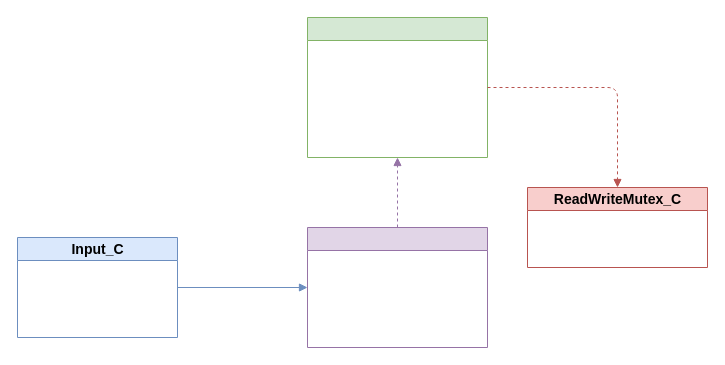
This 725x365 diagram has some shape labels left out. Here are the shapes that lost their labels. From the top down, the box of each, then its label:
(306, 16, 488, 158): InputState_C
(306, 226, 488, 348): InputManager_C
